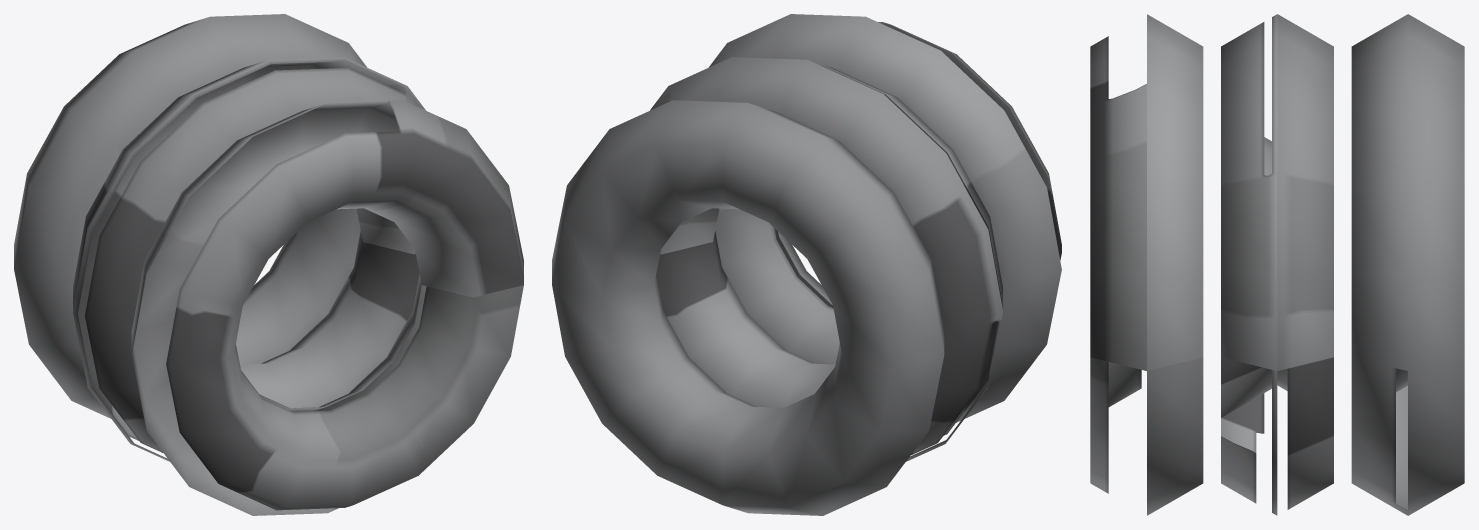
3 renders of one model, left to right at view 1: azimuth 30°, elevation 25°; view 2: azimuth 150°, elevation 25°; view 3: azimuth 270°, elevation 25°, orthographic. The views are drawn at different scales.
Bounding box in the file's own units: 1.08 × 1.08 × 0.8048.
